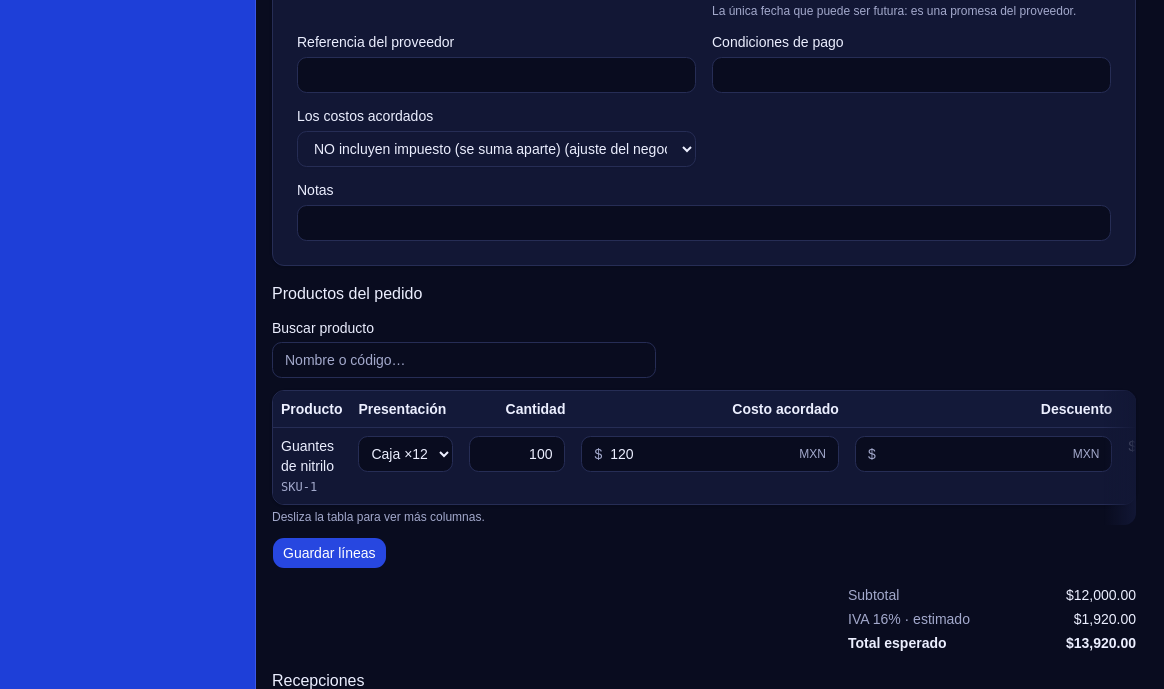
Órdenes de compra — la ficha (F9-PO-12/13) › al agregar un producto, el costo del catálogo se precarga (el de la presentación comprable)
(page scrolled)
Type "gas" into the search field labelled "Buscar producto" at (464, 360), box x1=272 y1=342 x2=656 y2=378
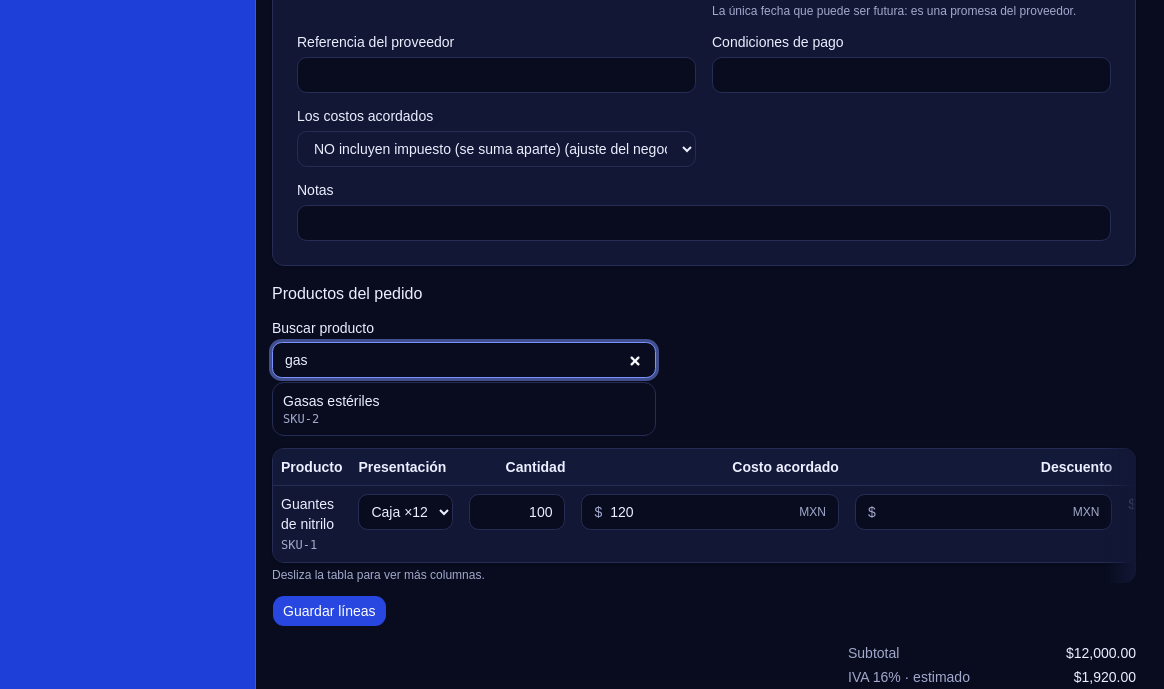
Click the button with test id "add-product-prod-2" at (331, 401), box x1=272 y1=382 x2=656 y2=436
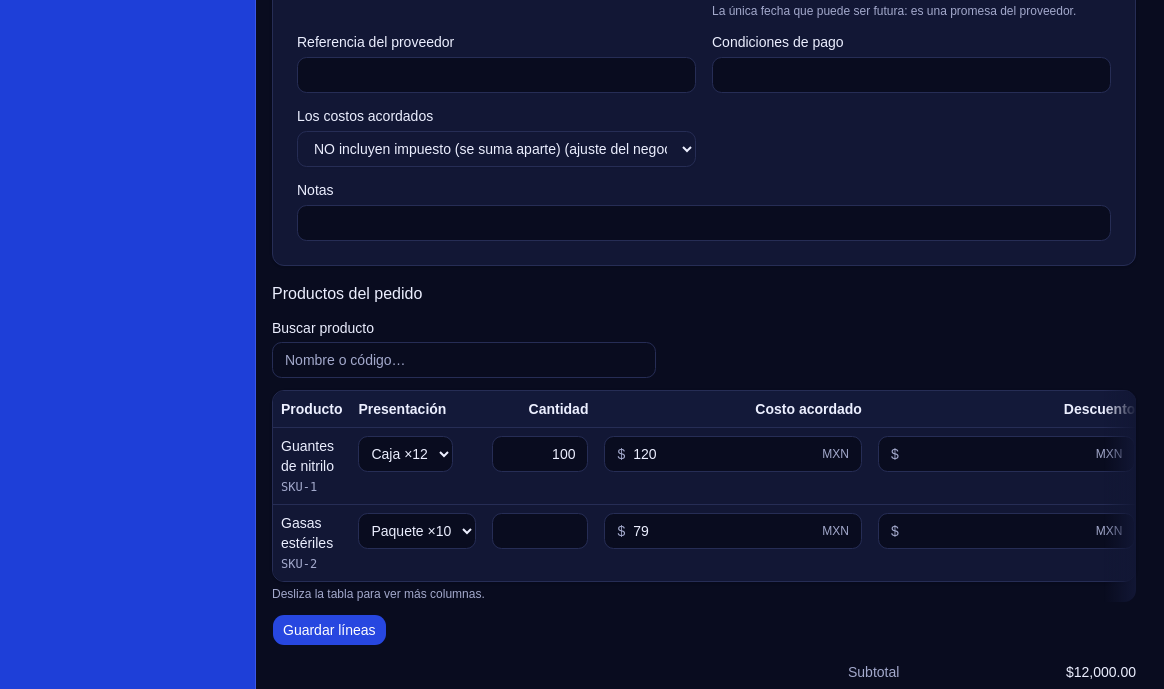
Check: the field named "Costo acordado" in the row of "Gasas estériles" holds "79", box x1=633 y1=521 x2=814 y2=541
